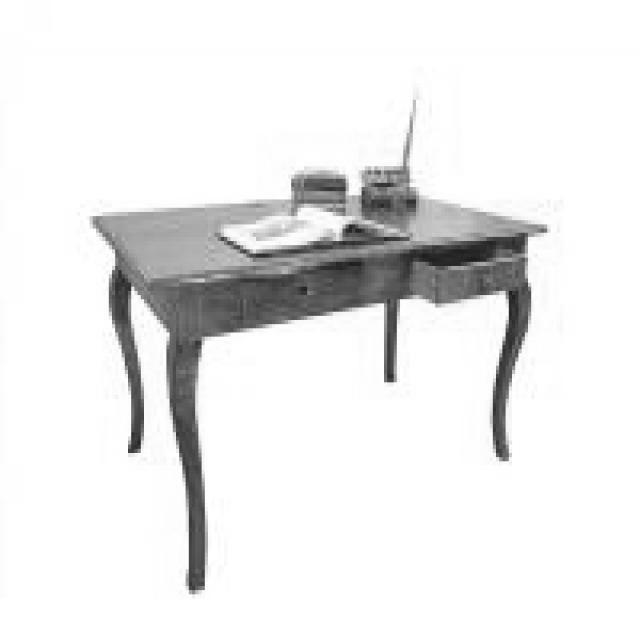table: (91, 180, 548, 592)
